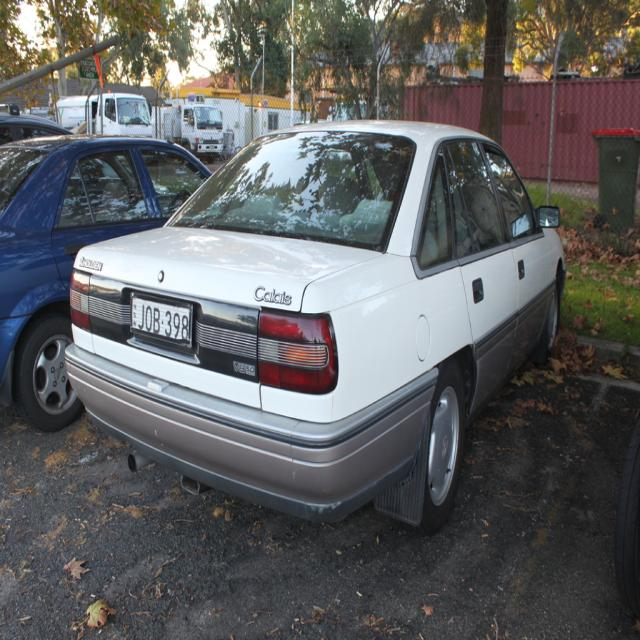car: (64, 114, 563, 550)
